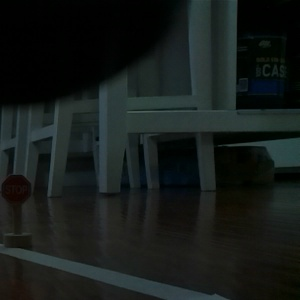stop sign: (1, 173, 34, 250)
